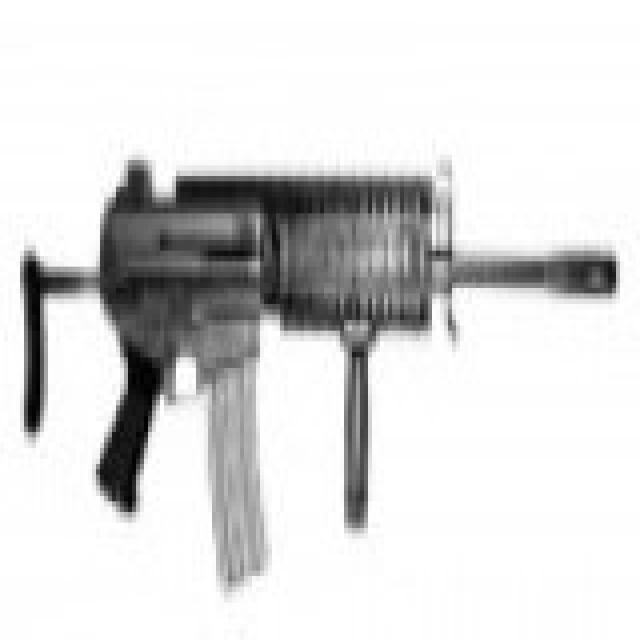Gun: (10, 107, 622, 599)
